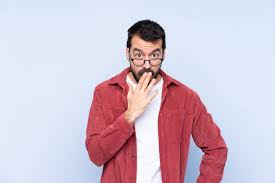white_male: (124, 37, 171, 82)
